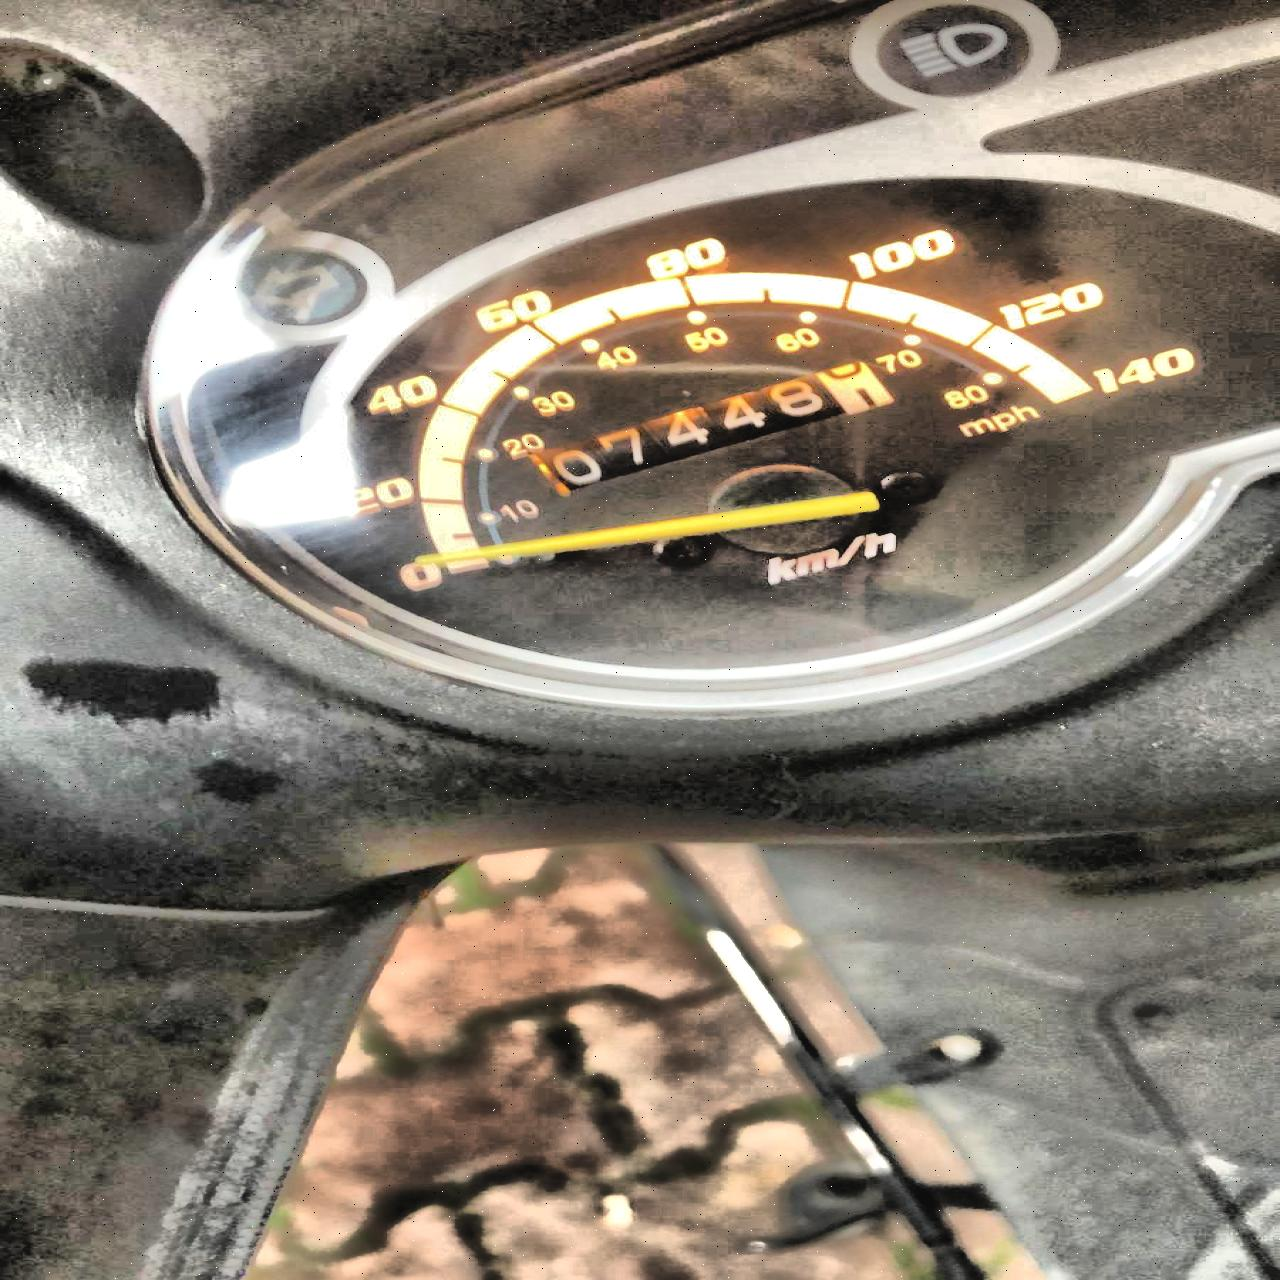0: (551, 448, 605, 484), (547, 388, 578, 410), (897, 346, 919, 368), (613, 346, 639, 365), (520, 431, 545, 450)
1: (844, 384, 887, 423)
3: (530, 394, 554, 416)
4: (660, 410, 714, 454), (721, 393, 769, 430), (593, 350, 617, 370)
7: (593, 427, 651, 464), (873, 353, 900, 374)
8: (765, 380, 828, 418)
odometer: (525, 352, 920, 499)
